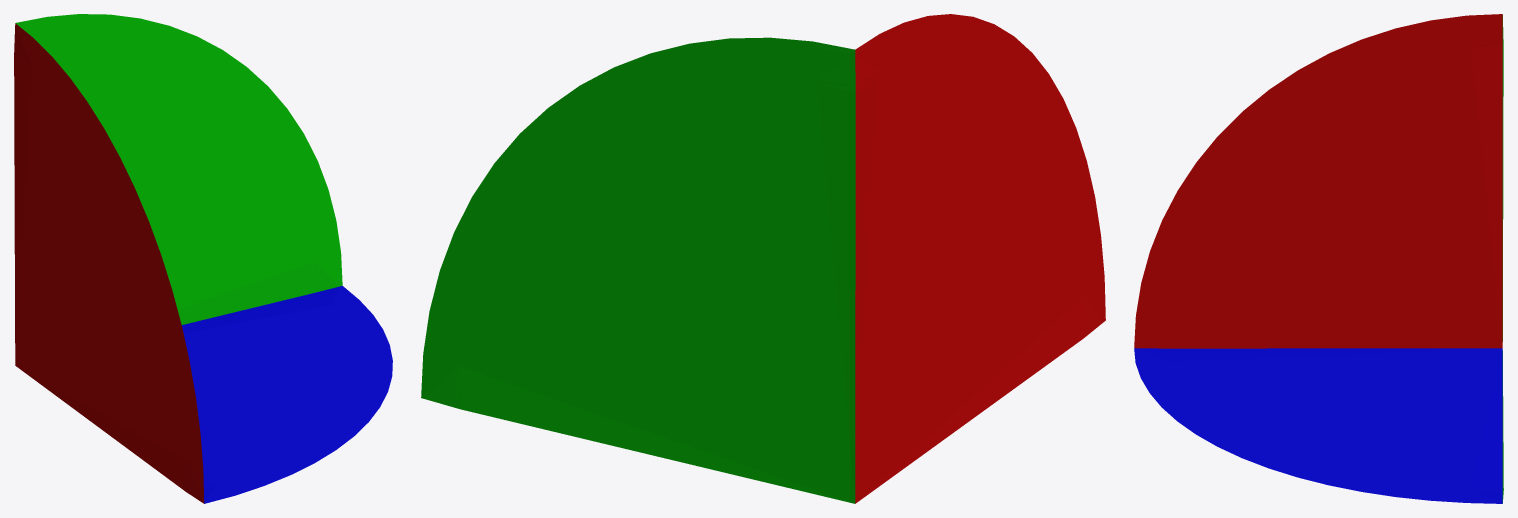
The model's file is SM_Gizmo_Rotate.FBX.
The picture shows the model from 3 angles, left to right: view 1: azimuth 30°, elevation 25°; view 2: azimuth 150°, elevation 25°; view 3: azimuth 270°, elevation 25°; orthographic projection. The views are drawn at different scales.
Parts seen in each view (by area): view 1: SM_Gizmo_Rotate; view 2: SM_Gizmo_Rotate; view 3: SM_Gizmo_Rotate.
Boxes of the visible parts, <box> form: SM_Gizmo_Rotate: <box>14,14,392,503</box>; SM_Gizmo_Rotate: <box>421,14,1105,503</box>; SM_Gizmo_Rotate: <box>1134,14,1503,503</box>.
Bounding box in the file's own units: 75.17 × 75.2 × 75.17.
